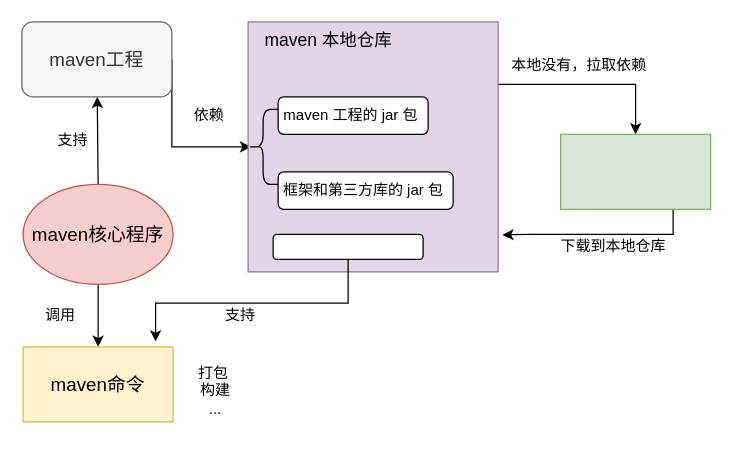
The diagram is 733 pixels wide and 456 high, and some of its shapes have lost their labels. Here are the shapes that lost their labels. From the top down, the centre of each, then its label:
At [635,171]: "maven 远程仓库".
At [347,246]: "maven插件的jar包".
